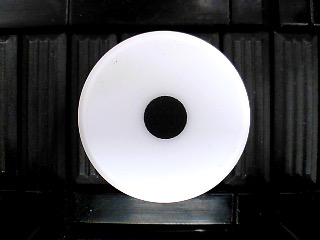BOHO: (76, 30, 251, 204)
